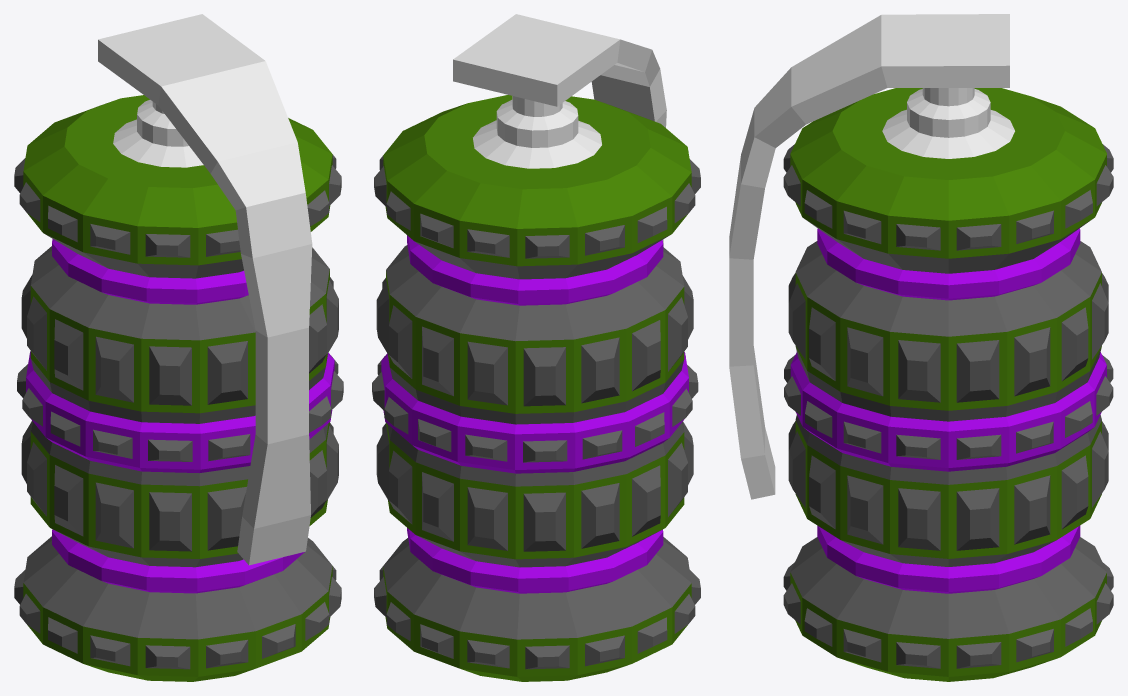
Rendered from Г6 Граната с шипами.fbx.
The picture shows the model from 3 angles, left to right: view 1: azimuth 30°, elevation 25°; view 2: azimuth 150°, elevation 25°; view 3: azimuth 270°, elevation 25°; orthographic projection.
Visible parts, largest first — view 1: Cylinder, Plane; view 2: Cylinder, Plane; view 3: Cylinder, Plane.
Boxes of the visible parts, <box> form: Cylinder: <box>14,95,343,681</box>; Plane: <box>98,14,312,565</box>; Cylinder: <box>372,95,700,681</box>; Plane: <box>453,14,666,246</box>; Cylinder: <box>783,88,1113,681</box>; Plane: <box>729,14,1009,499</box>.
Size of the model in its own units: 217 by 428 by 251.
